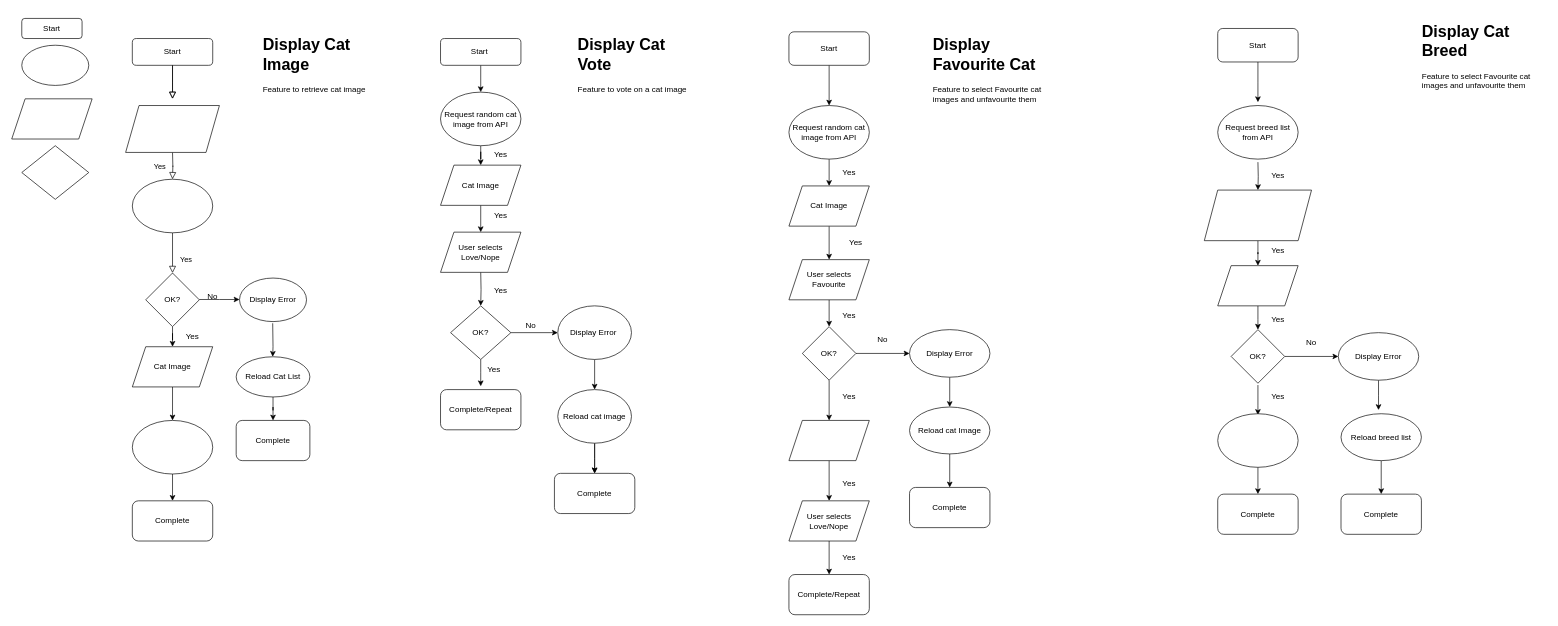
The diagram is 1558 pixels wide and 626 high, and some of its shapes have lost their labels. The shapes that lost their labels are listed below. From the top down, each one's box as (x1, y1, x2, y2) in pixels, then its label:
(21, 45, 89, 85): Process
(11, 98, 92, 139): Data
(125, 105, 219, 152): User selects cats header
(21, 145, 89, 199): Decision
(132, 179, 213, 233): Request cat image from API
(1204, 189, 1312, 241): Breed list drop down
(1217, 265, 1298, 306): User selects breed
(132, 420, 213, 474): Display Image
(788, 420, 869, 461): User choice to unfavourite
(1217, 413, 1298, 467): Display breed information
